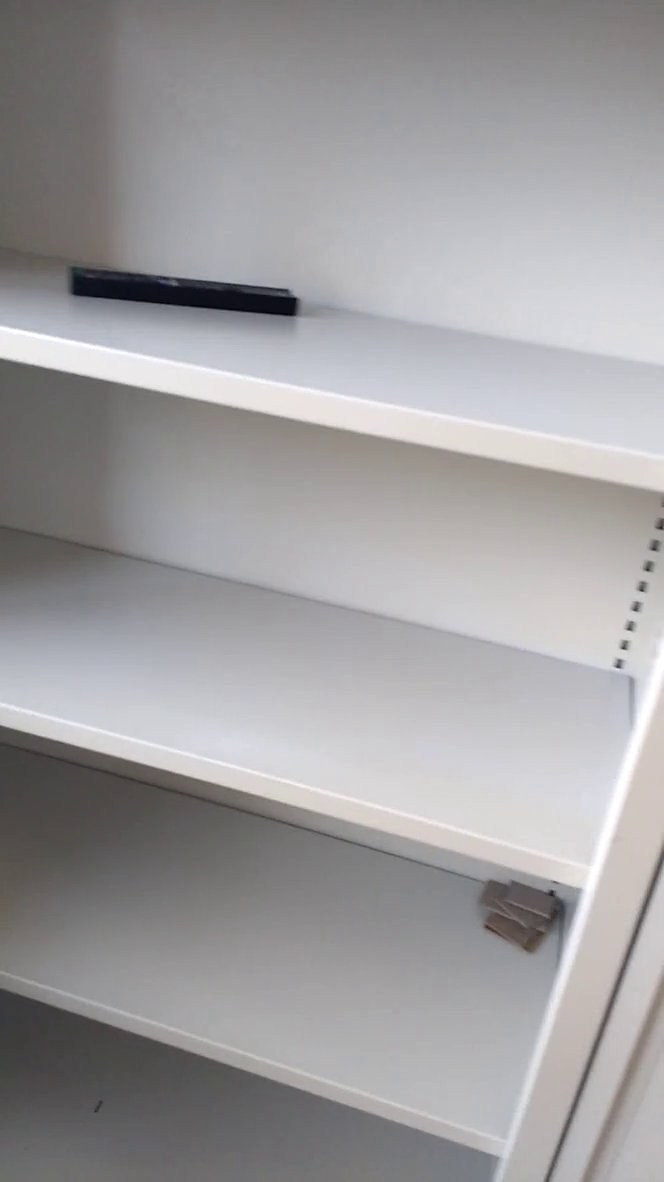remote: (49, 245, 314, 334)
